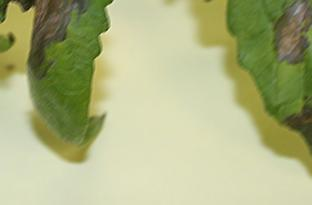Tomato leaf late blight: (169, 0, 312, 193), (0, 0, 112, 170)
